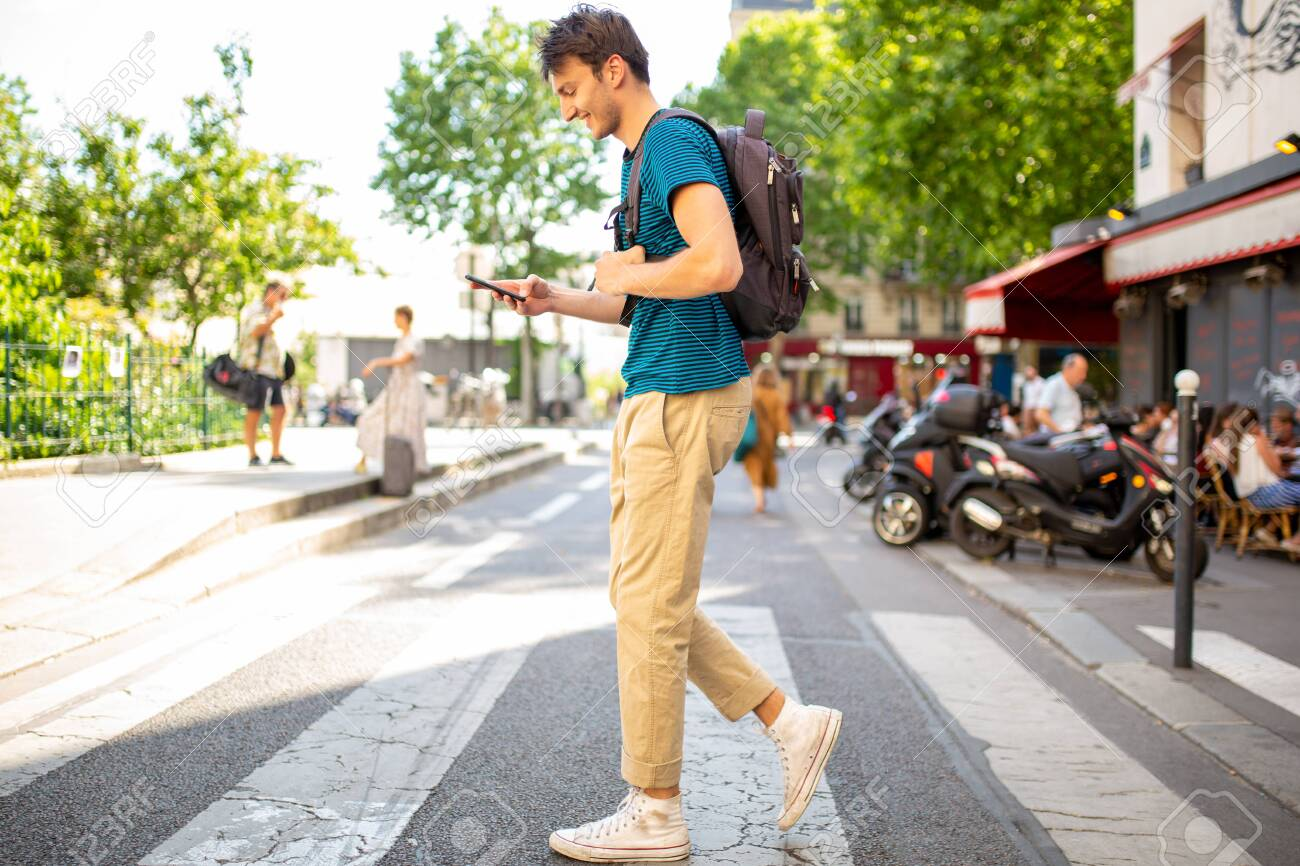motor bike: (945, 401, 1216, 590)
person: (485, 5, 849, 866), (346, 300, 442, 481), (219, 267, 301, 471)
